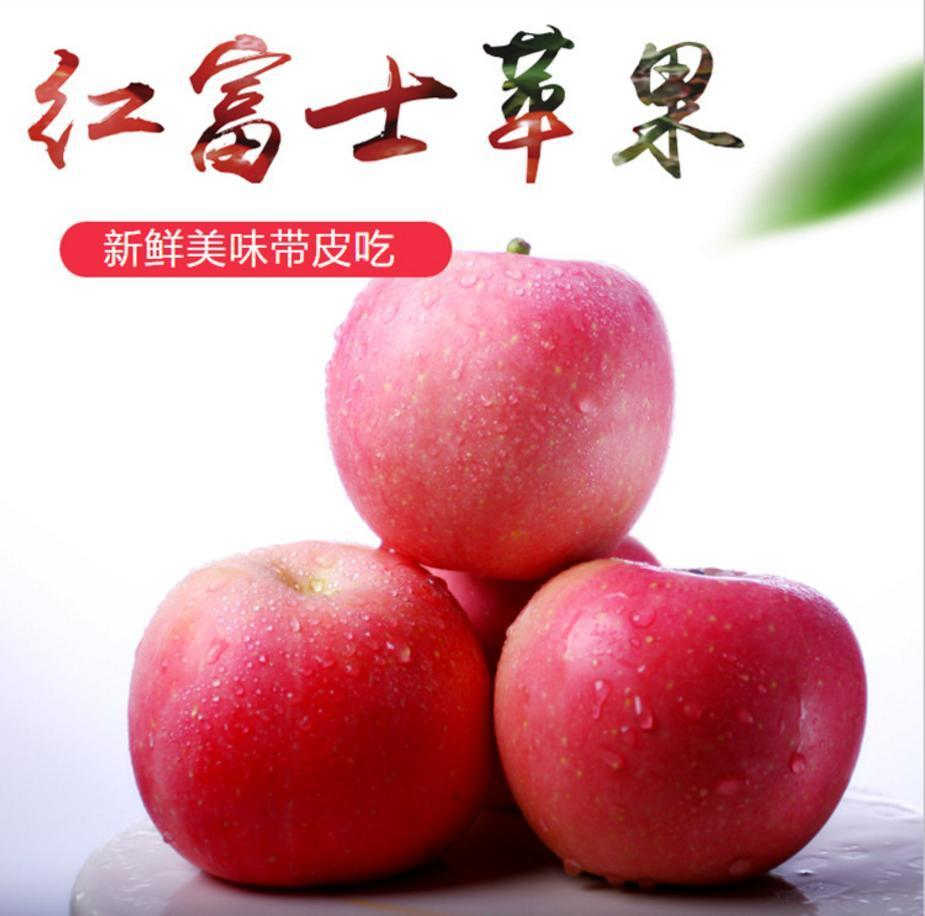apple: (113, 542, 502, 893), (491, 561, 864, 890), (327, 250, 673, 582)
